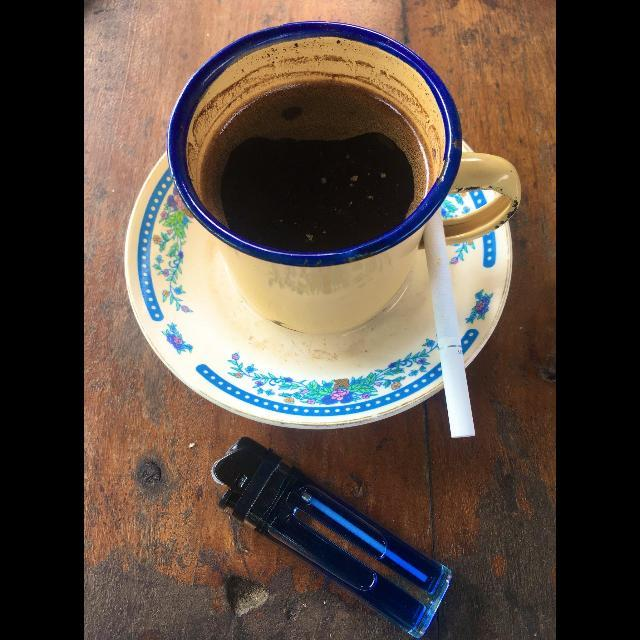rokok: (418, 205, 478, 442)
